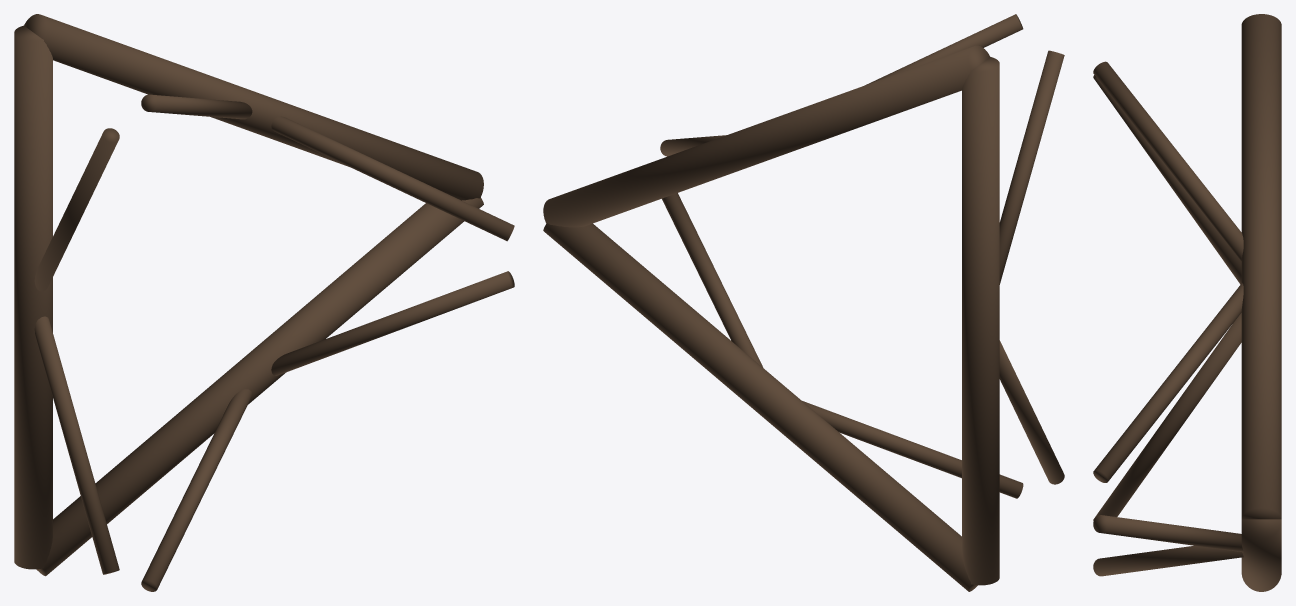
The model's file is jacket.obj.
3 views of the same model, side by side, from view 1: azimuth 30°, elevation 25°; view 2: azimuth 150°, elevation 25°; view 3: azimuth 270°, elevation 25° (orthographic). The views are drawn at different scales.
Parts seen in each view (by area): view 1: jacket; view 2: jacket; view 3: jacket.
Part boxes in pixels (box(x1,y1,x2,y2)): jacket: box(14, 14, 514, 591); jacket: box(543, 14, 1064, 591); jacket: box(1093, 14, 1281, 591).
Size of the model in its own units: 54.96 by 63.46 by 18.76.
